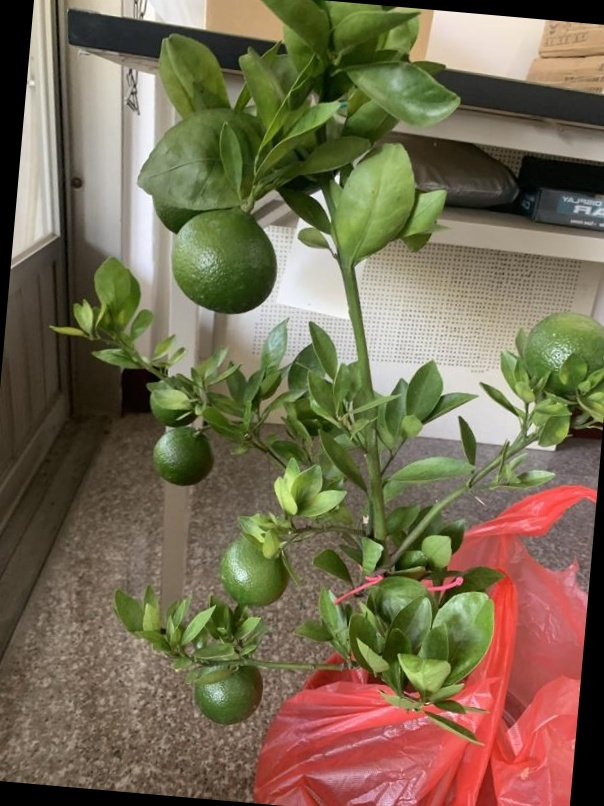Tangerine: (168, 204, 279, 317), (216, 522, 291, 615), (525, 311, 603, 400), (191, 655, 265, 724), (150, 418, 214, 486)
